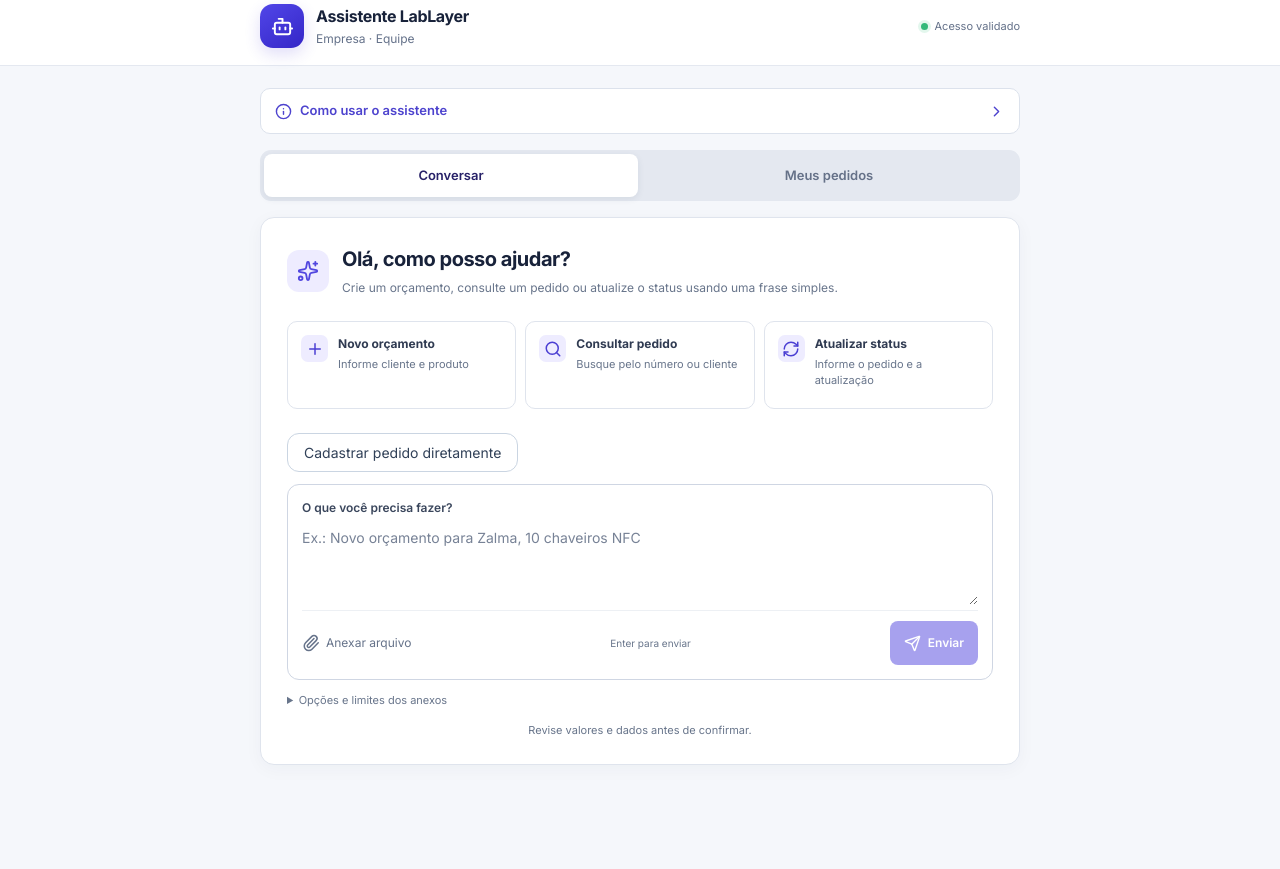
comando explícito confirmado pelo servidor abre a fila e a linha do tempo sem criar orçamento
In the text box named "Criar, consultar ou atualizar um pedido": point(640, 561) [302,517,978,605], type "ORC 11 pago pode produzir"
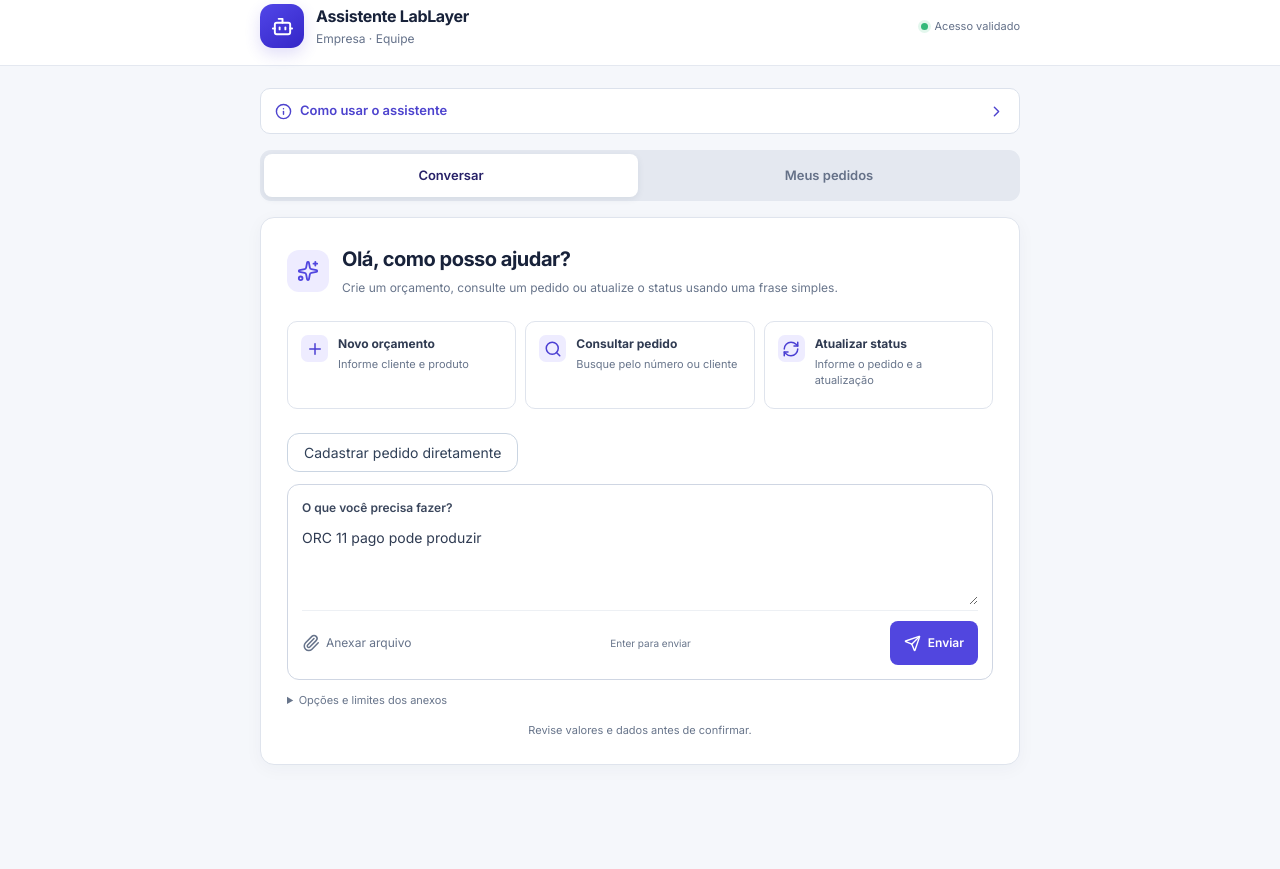
Click the button with aria-label "Enviar mensagem": point(934, 643) [890,621,978,665]
(page scrolled)
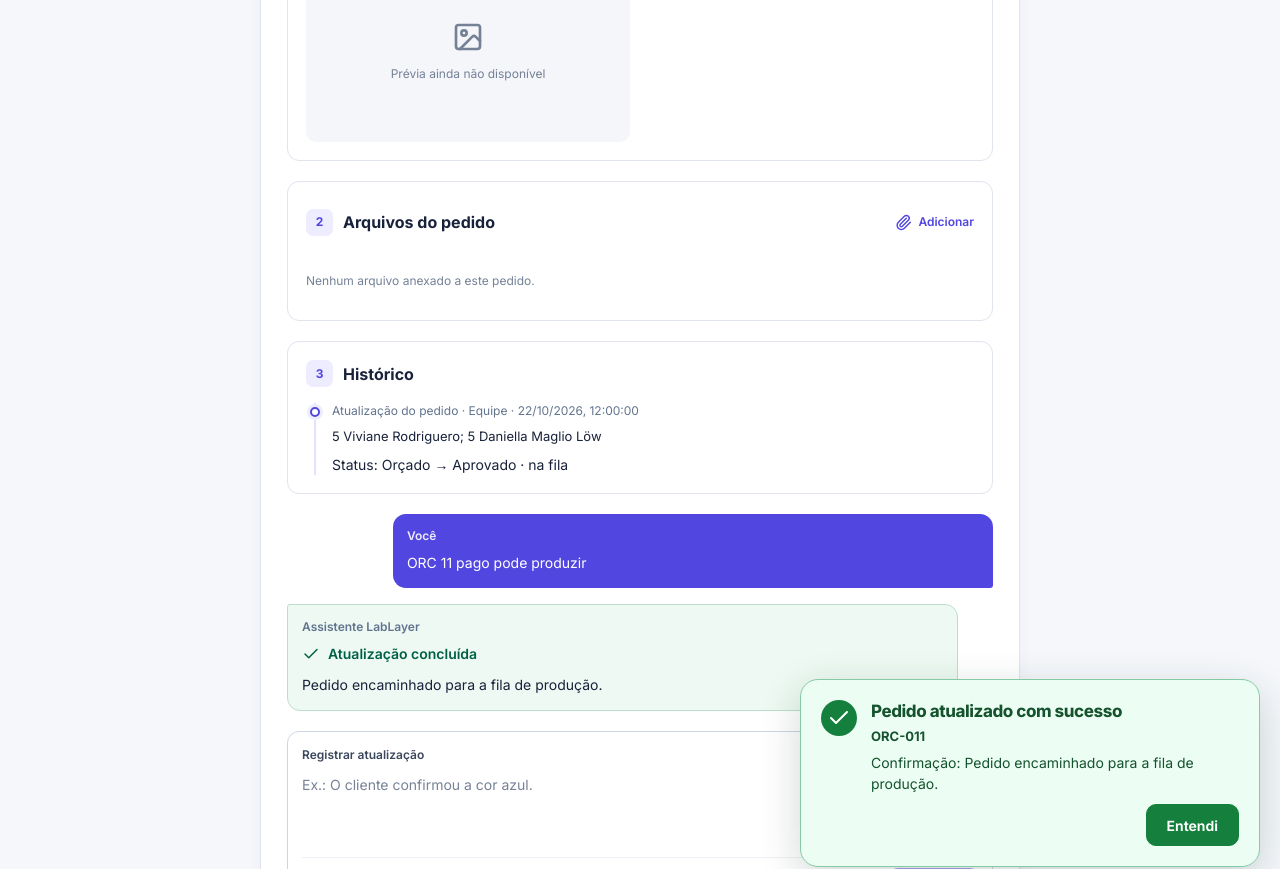
Now the element named "Linha do tempo do orçamento" is shown, box [306,403,974,475]
Now the text "5 Viviane Rodriguero; 5 Daniella Maglio Löw" is shown, box [332,428,602,444]
